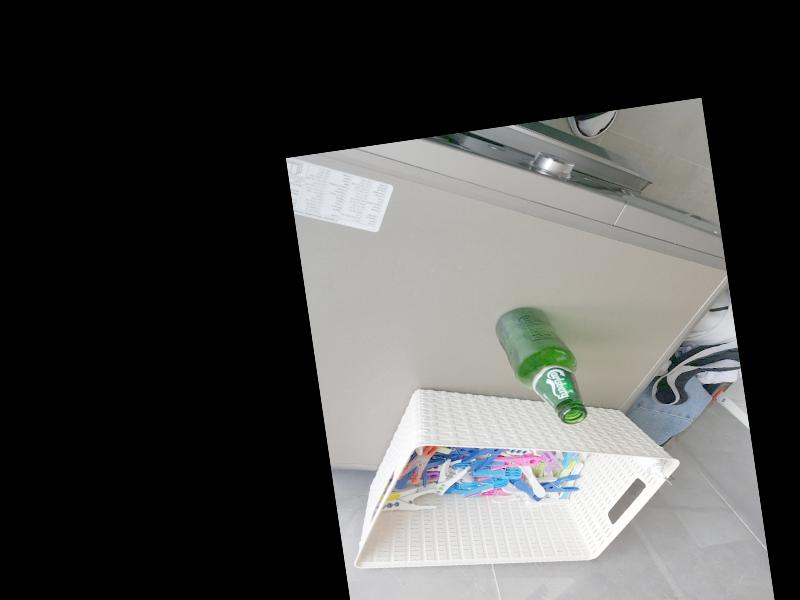Beer: (492, 300, 587, 433)
